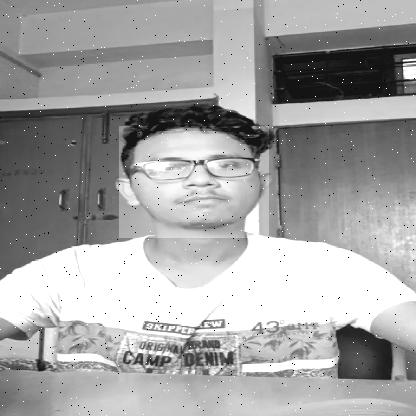Normal: (119, 126, 269, 238)
